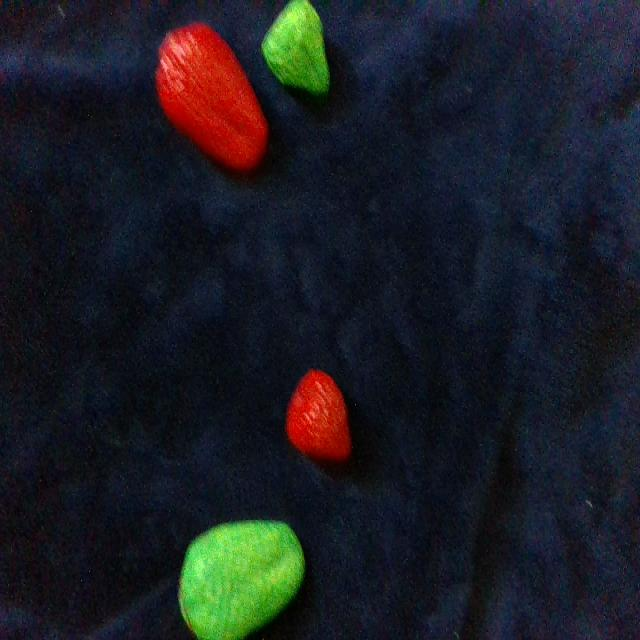chica_roja: (287, 371, 350, 461)
grande_roja: (156, 24, 267, 169)
verde: (179, 521, 304, 639), (262, 0, 329, 95)
